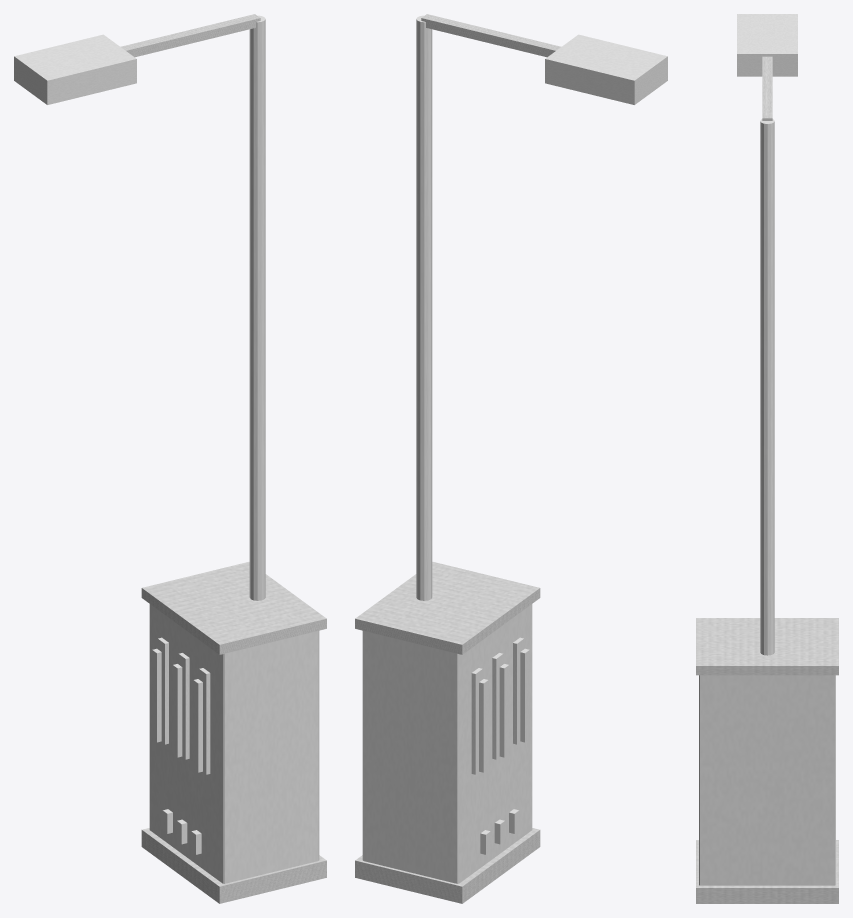
File: undergroundfused3light.obj
The picture shows the model from 3 angles, left to right: view 1: azimuth 30°, elevation 25°; view 2: azimuth 150°, elevation 25°; view 3: azimuth 270°, elevation 25°; orthographic projection. The views are drawn at different scales.
Visible parts, largest first — view 1: Case, Trim, Pole, LampHousing, LampBracket, Door1, Door0, Door2, Fuse2, Fuse1, Fuse0, Services; view 2: Case, Trim, Pole, LampHousing, LampBracket, Door1, Door2, Door0, Fuse0, Fuse1, Fuse2, Services; view 3: Case, Trim, Pole, LampHousing, LampBracket.
Boxes of the visible parts, x1,y1,x2,y2 form: Case: (149, 604, 319, 883); Trim: (141, 562, 326, 903); Pole: (249, 15, 265, 600); LampHousing: (14, 34, 136, 104); LampBracket: (120, 14, 260, 57); Door1: (172, 664, 182, 757); Door0: (152, 648, 161, 742); Door2: (193, 679, 202, 772); Fuse2: (199, 668, 210, 774); Fuse1: (178, 653, 189, 759); Fuse0: (158, 637, 168, 744); Services: (162, 809, 201, 854); Case: (362, 604, 532, 883); Trim: (355, 562, 540, 903); Pole: (416, 15, 432, 600); LampHousing: (545, 34, 667, 104); LampBracket: (421, 14, 561, 57); Door1: (499, 664, 509, 757); Door2: (520, 648, 529, 742); Door0: (479, 679, 488, 772); Fuse0: (471, 668, 482, 774); Fuse1: (492, 653, 503, 759); Fuse2: (513, 637, 523, 744); Services: (480, 809, 519, 854); Case: (699, 675, 835, 885); Trim: (696, 618, 838, 903); Pole: (760, 119, 774, 655); LampHousing: (737, 14, 797, 76); LampBracket: (762, 56, 772, 120).
Size of the model in its own units: 1.87 by 5.86 by 0.98.
